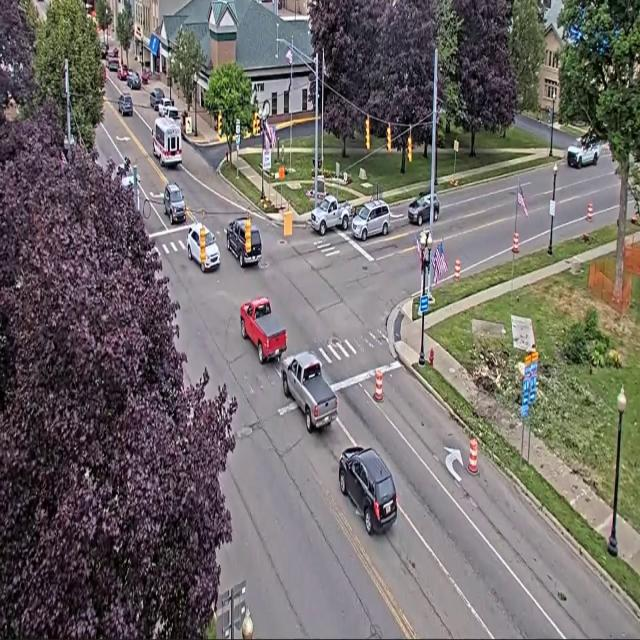car: (339, 447, 398, 535), (227, 216, 261, 267), (187, 223, 220, 272), (352, 200, 390, 240), (163, 184, 186, 224), (408, 192, 430, 225), (118, 94, 133, 116), (150, 88, 164, 111), (157, 97, 173, 117), (164, 106, 180, 121), (127, 72, 141, 89), (117, 64, 128, 80), (108, 57, 119, 71), (141, 69, 151, 84), (101, 43, 108, 59), (109, 48, 118, 57)
traffic signal: (245, 218, 251, 253), (200, 226, 205, 263), (365, 117, 370, 150), (407, 133, 412, 162), (253, 112, 259, 135), (217, 111, 221, 137), (387, 125, 391, 151)
truck: (282, 352, 337, 433), (240, 297, 286, 364), (310, 195, 352, 236), (567, 136, 600, 168)
